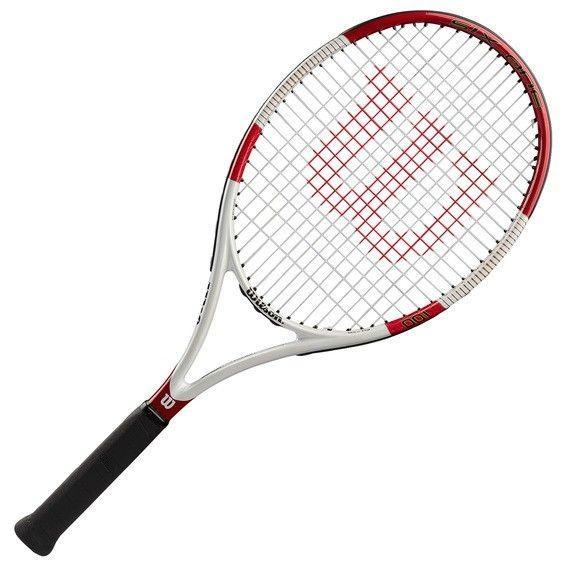Tennis-Racket: (7, 5, 570, 570)
